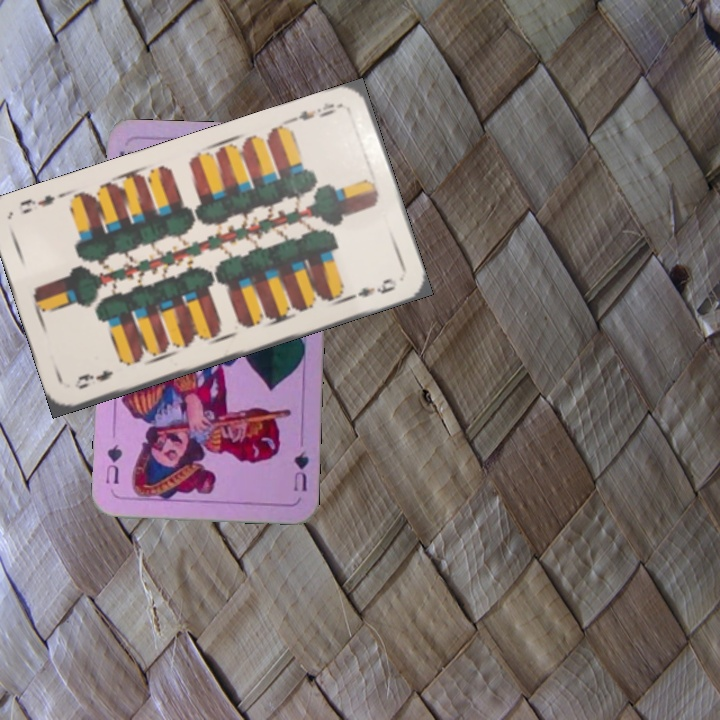E9: (286, 98, 345, 125), (70, 366, 116, 392)
GU: (289, 446, 311, 494)
